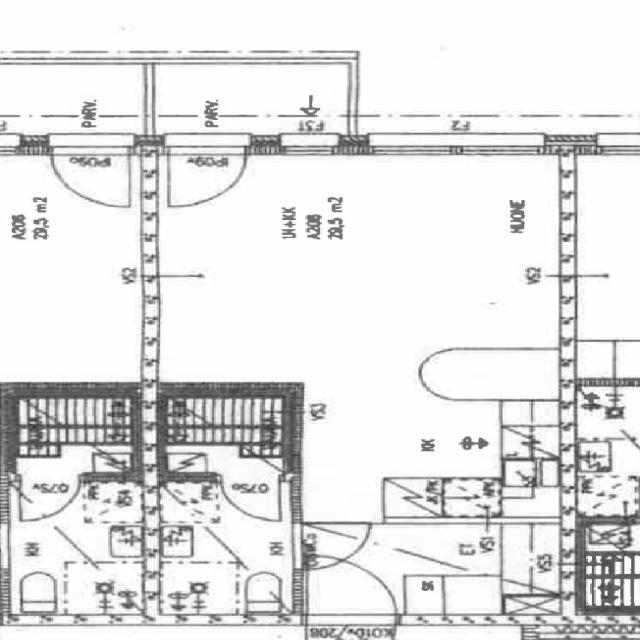door: (309, 556, 398, 624), (169, 135, 245, 205), (293, 522, 375, 568), (222, 473, 280, 520)
